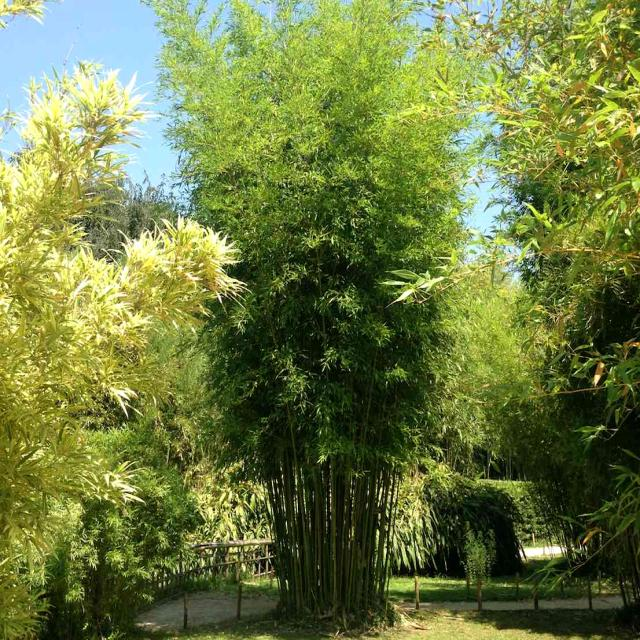Clumping: (240, 15, 418, 638)
